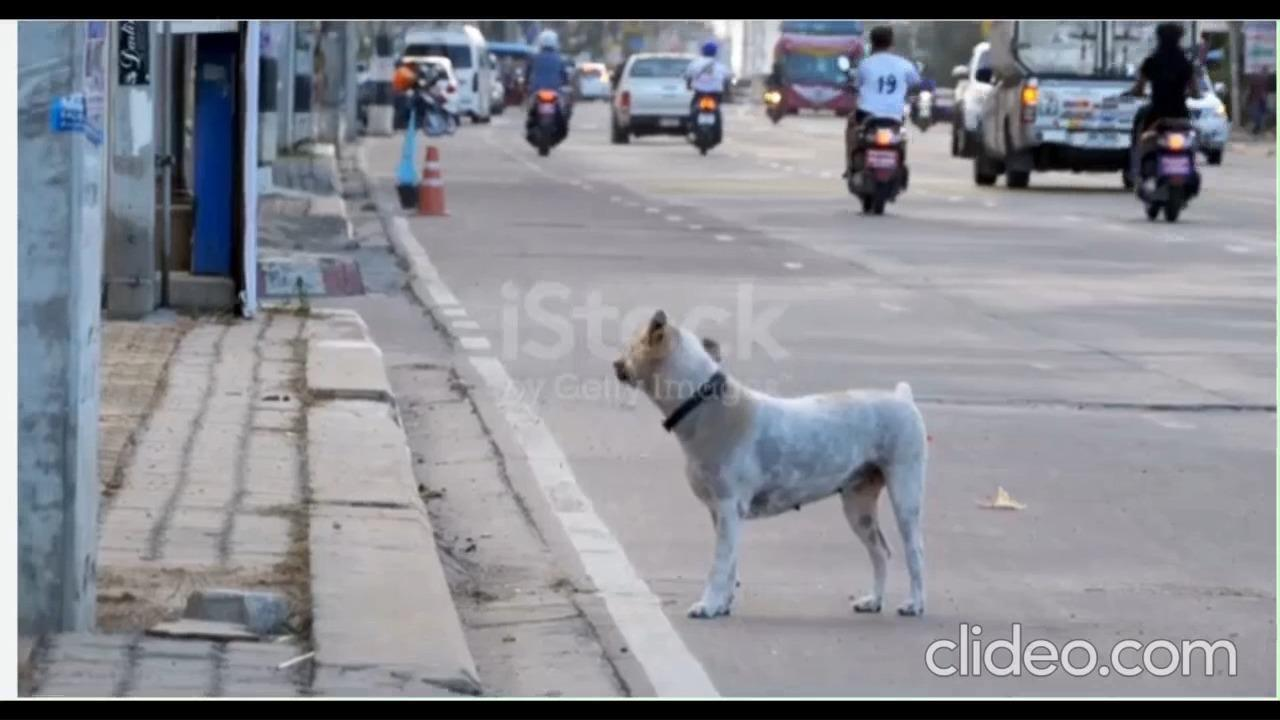dog: (607, 308, 937, 624)
